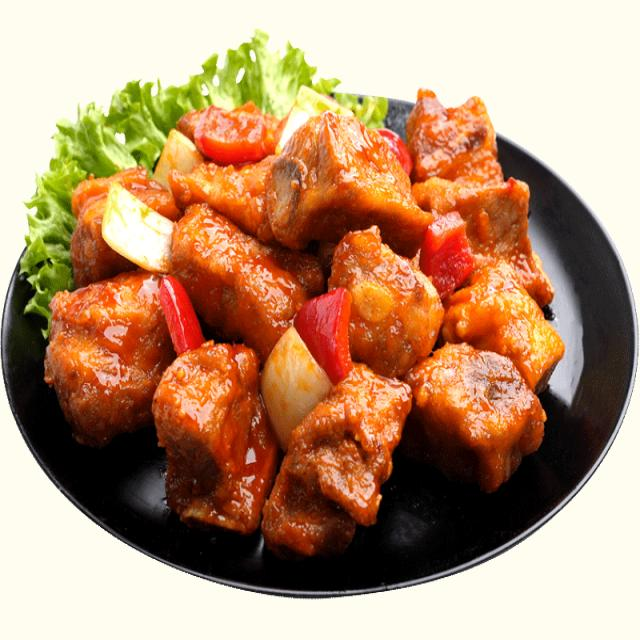suon xao: (45, 89, 564, 554)
